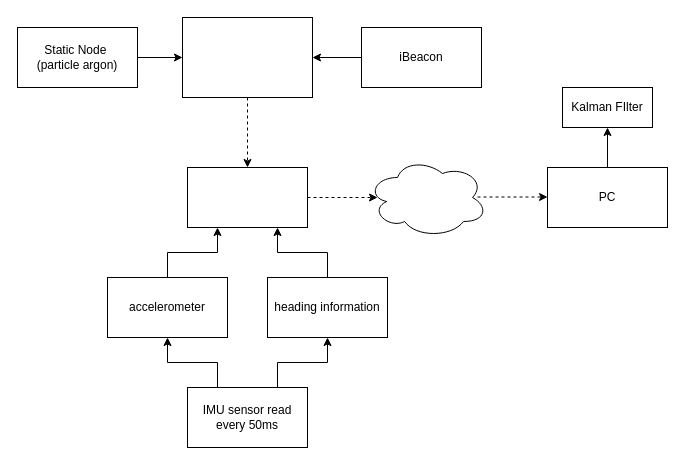
Some shapes in this 685 by 465 pixel diagram are drawn without their labels. The centre of each missing label's shape, as x and y in pixels:
advertising packets (RSSI information) 100ms interval 100ms window: [247,57]
mesh network: [427,197]
Mobile node (thingy52): [247,197]
